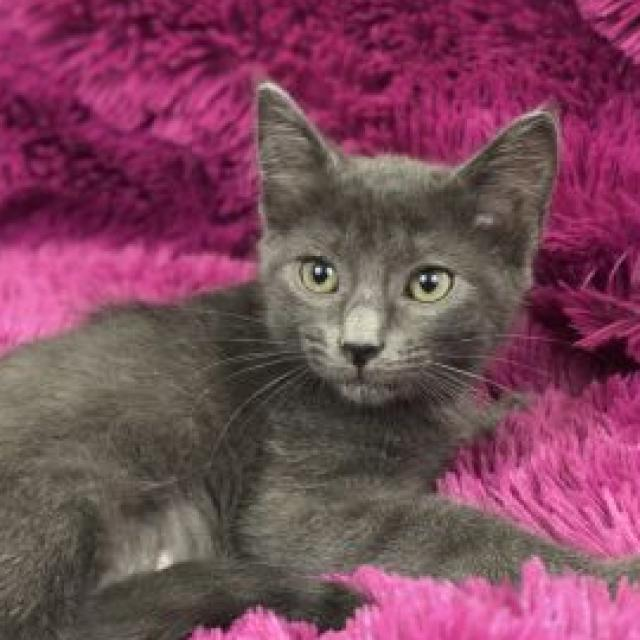Russian Blue: (0, 73, 640, 640)
